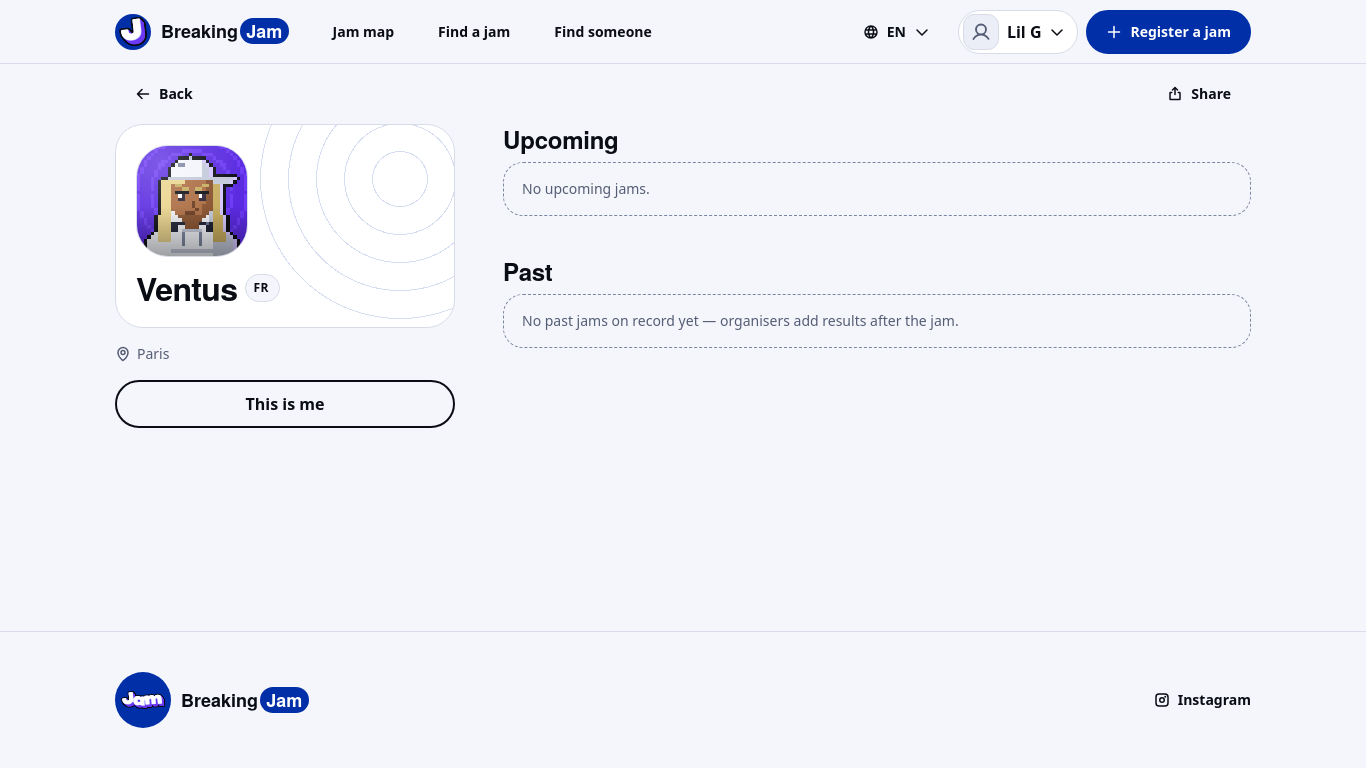
dancer identity › says why a page can't be claimed
The width and height of the screenshot is (1366, 768).
Click the button "This is me" at (285, 404), box 115,380 -> 455,428
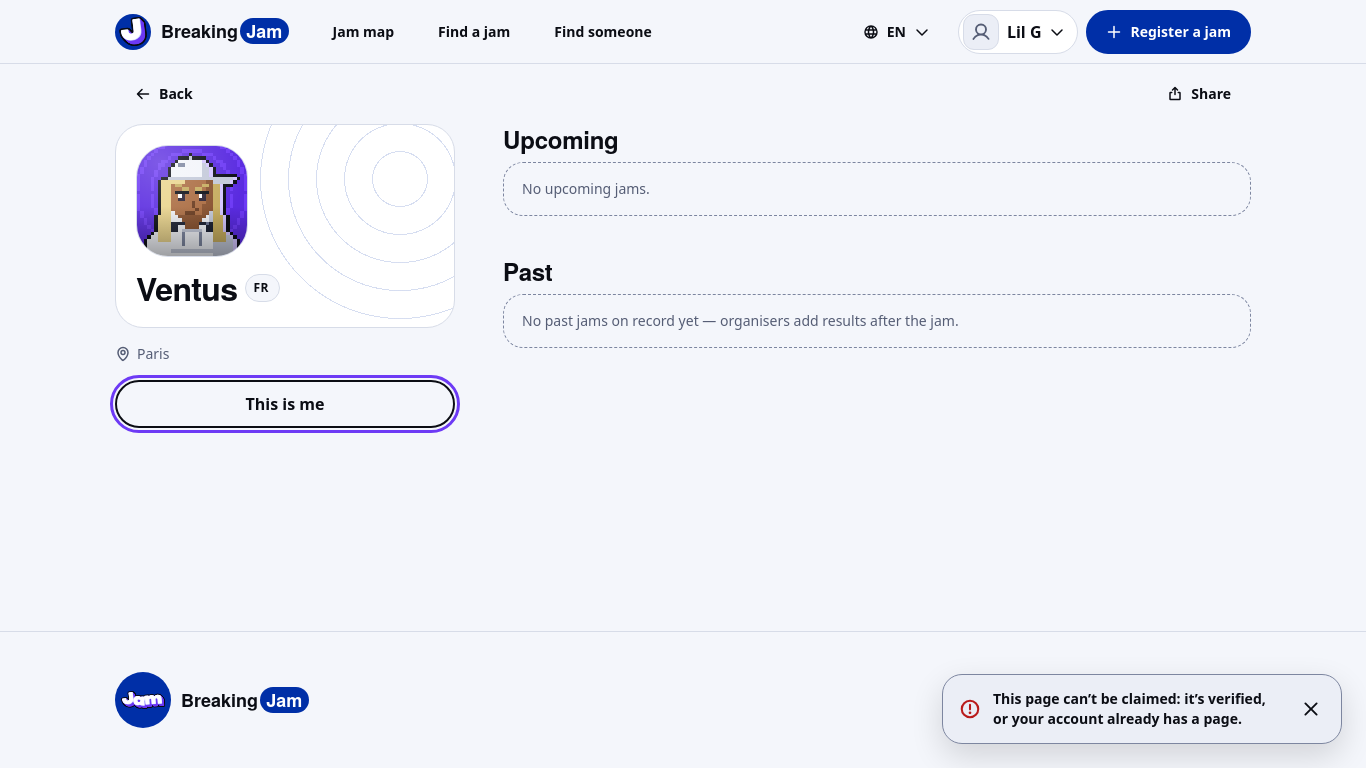
Check: the message shows "your account already has a page", box 993,689 -> 1266,728
